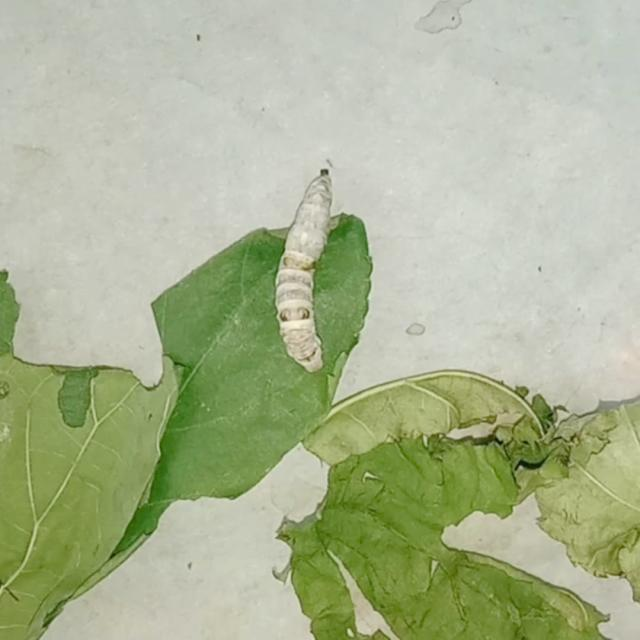Grasserie: (259, 160, 351, 376)
